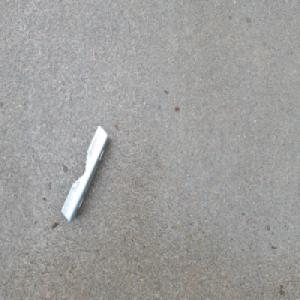ClampPart: (61, 122, 111, 223)
